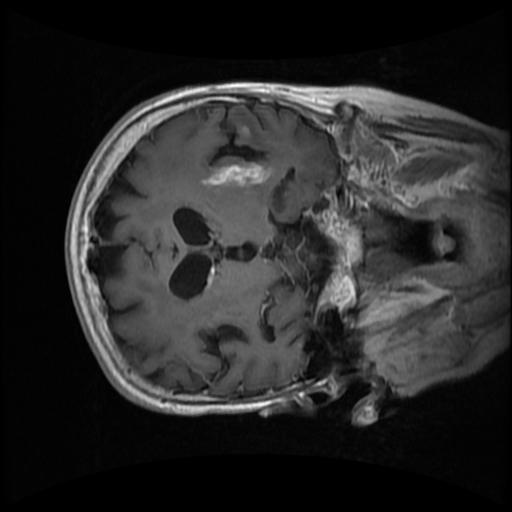glioma: (199, 162, 272, 189)
